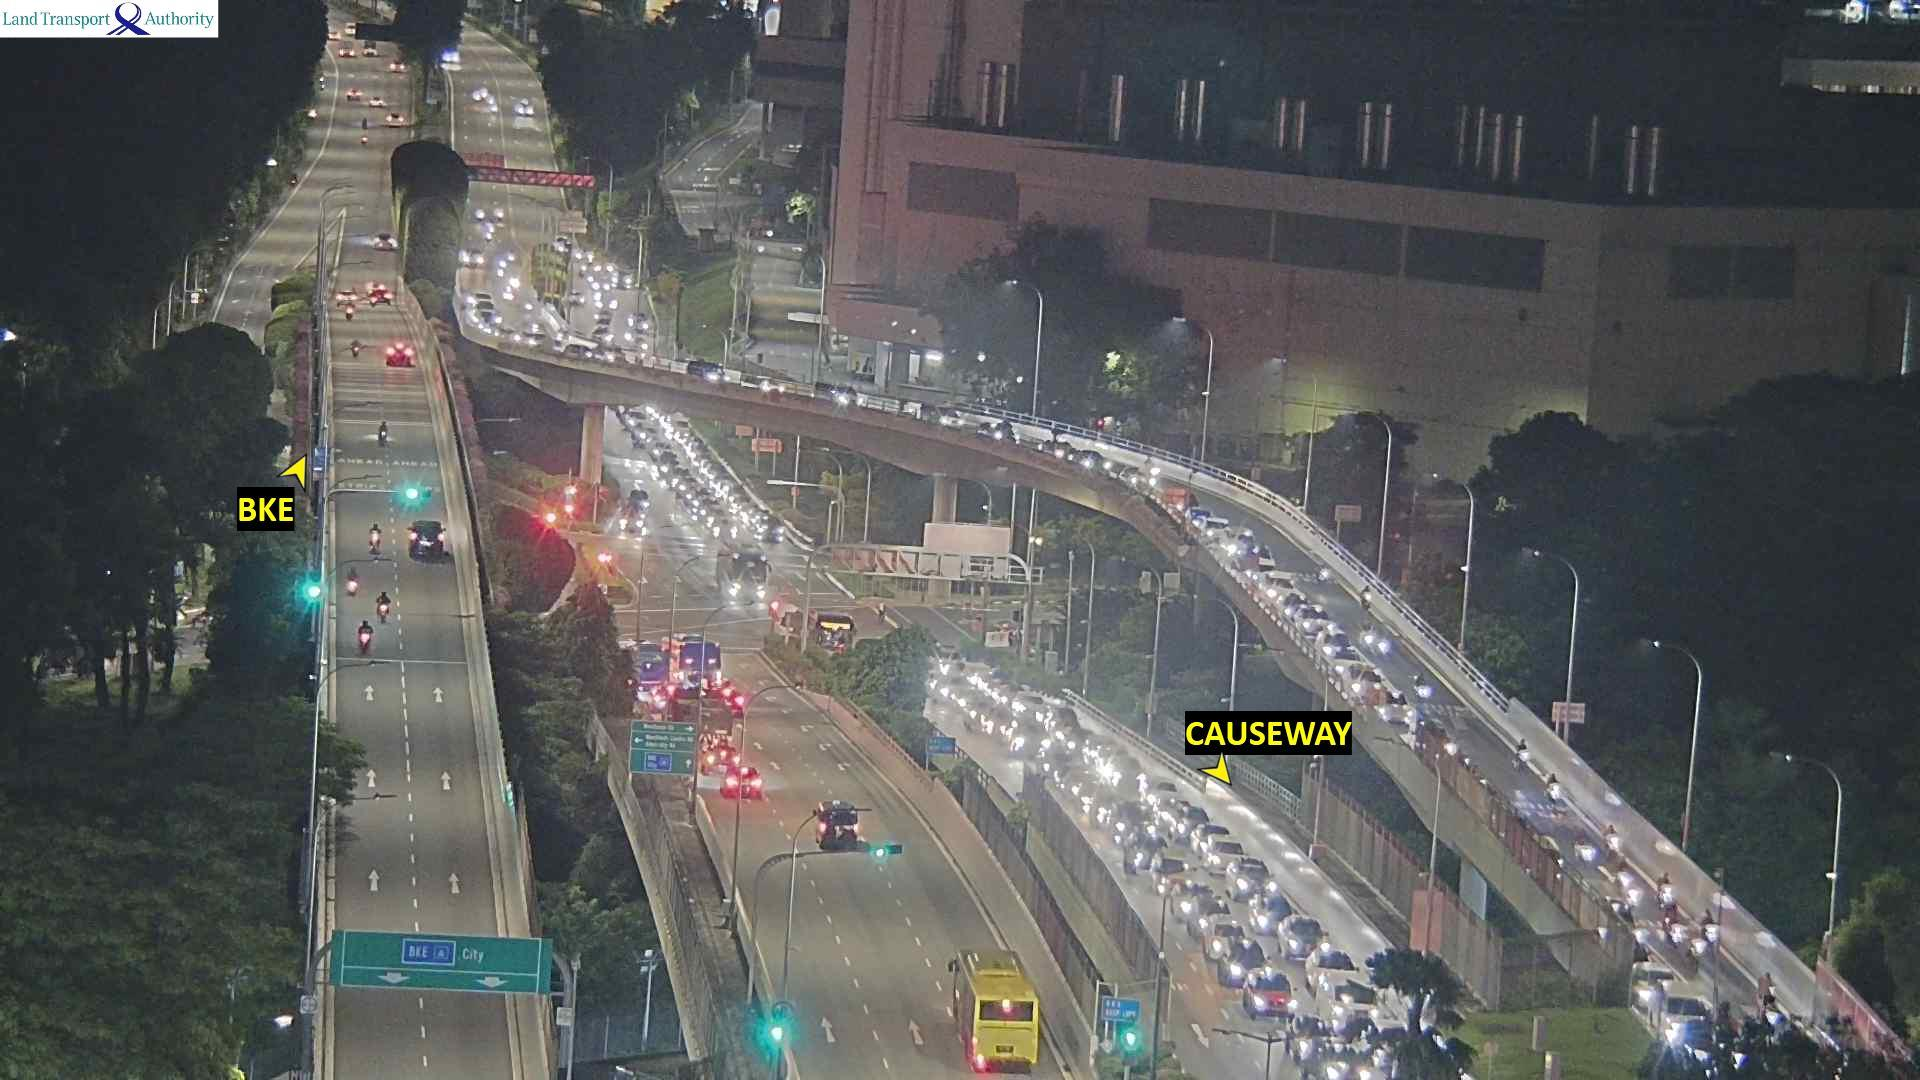vehicle-causeway-johor: (1286, 1018, 1335, 1077), (1651, 981, 1709, 1030), (1278, 915, 1331, 961), (1307, 948, 1360, 993), (1246, 969, 1294, 1017), (1220, 940, 1269, 986), (1226, 857, 1271, 899), (1317, 978, 1374, 1011), (1250, 890, 1290, 932), (1155, 849, 1191, 894), (1205, 833, 1244, 873), (1342, 665, 1383, 702), (1125, 835, 1167, 870), (1170, 881, 1213, 915), (1170, 807, 1209, 844), (1205, 923, 1244, 957), (1191, 902, 1230, 935), (1189, 824, 1232, 855), (1317, 630, 1358, 661), (1001, 421, 1055, 443), (1374, 692, 1410, 721), (814, 386, 864, 406), (1112, 816, 1149, 843), (1295, 608, 1332, 634), (686, 363, 732, 382), (564, 342, 608, 361), (1095, 799, 1129, 824), (1233, 547, 1270, 570), (1215, 529, 1253, 550), (1081, 787, 1117, 810), (1261, 572, 1296, 595), (1280, 593, 1313, 617), (1163, 488, 1199, 509), (1605, 825, 1623, 862), (977, 703, 1001, 729), (756, 518, 783, 541), (965, 686, 986, 713), (1114, 771, 1147, 789), (1015, 732, 1040, 754), (922, 406, 960, 421), (948, 678, 969, 703), (1015, 696, 1043, 715), (1044, 754, 1073, 771), (1663, 919, 1683, 944), (997, 707, 1015, 733), (1700, 909, 1716, 939), (1067, 731, 1095, 748), (1758, 973, 1772, 1005), (1514, 736, 1527, 770), (1073, 778, 1097, 796), (1069, 451, 1102, 464), (713, 520, 738, 537), (1097, 746, 1129, 760), (1658, 872, 1671, 903), (981, 423, 1013, 436), (1414, 671, 1428, 699), (1545, 773, 1560, 799), (463, 249, 483, 268), (704, 509, 725, 526), (1109, 760, 1139, 771), (667, 473, 694, 487), (1361, 621, 1374, 646), (712, 477, 735, 491), (704, 467, 724, 481), (719, 488, 742, 500), (468, 305, 495, 315), (676, 484, 699, 496), (638, 431, 661, 443), (1110, 467, 1138, 476), (683, 442, 707, 452), (658, 464, 682, 475), (653, 451, 676, 462), (646, 439, 667, 451), (628, 415, 649, 427), (741, 502, 760, 516), (469, 293, 492, 303), (522, 332, 545, 343), (692, 500, 713, 510), (683, 495, 704, 505), (475, 316, 498, 326), (1361, 584, 1370, 607), (690, 450, 711, 459), (727, 497, 746, 506), (501, 285, 512, 302), (696, 459, 719, 467), (674, 427, 691, 436), (509, 276, 521, 287), (496, 330, 514, 336), (679, 436, 698, 443), (525, 303, 535, 314), (495, 269, 504, 280), (506, 251, 516, 261), (497, 258, 504, 268)
vehicle-causeway-singapore: (961, 944, 1046, 1072), (663, 636, 720, 690), (815, 800, 866, 852), (409, 520, 443, 560), (721, 769, 762, 796), (704, 748, 740, 771), (392, 344, 414, 367), (360, 620, 372, 653), (369, 289, 390, 306), (368, 524, 380, 553), (377, 592, 389, 621), (338, 290, 356, 307), (375, 233, 392, 251), (347, 568, 357, 596), (380, 422, 388, 444), (352, 339, 360, 357), (347, 305, 352, 319)
